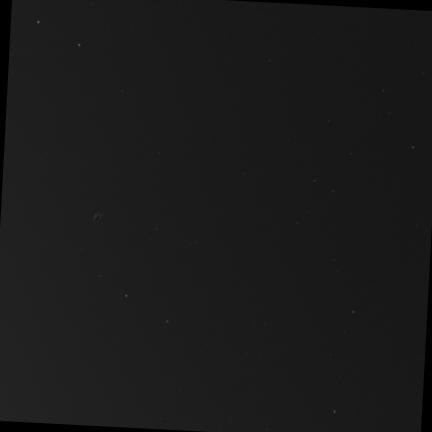Shahed: (91, 211, 103, 224)
